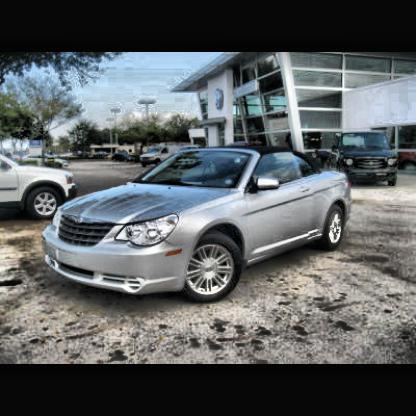Chrysler Sebring Convertible 2010: (42, 151, 351, 308)
